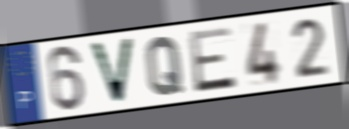2: (290, 16, 333, 80)
4: (244, 19, 283, 86)
6: (46, 43, 86, 113)
E: (186, 24, 239, 95)
Q: (144, 34, 186, 98)
V: (86, 36, 137, 107)
